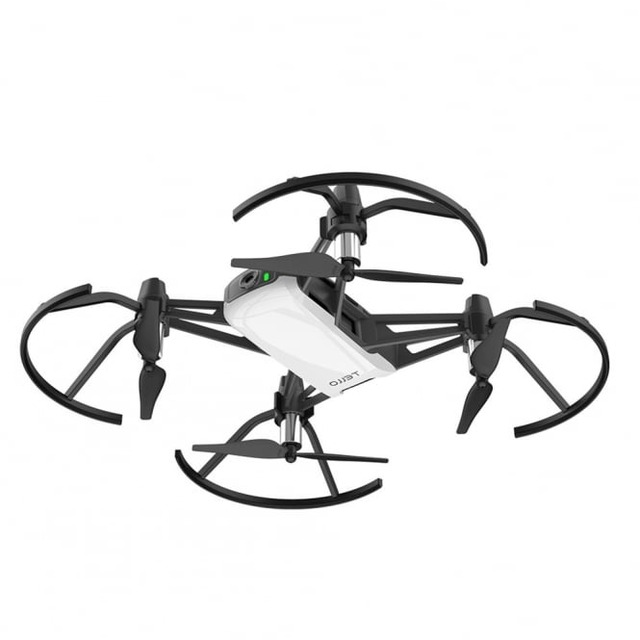drone: (18, 170, 609, 511)
